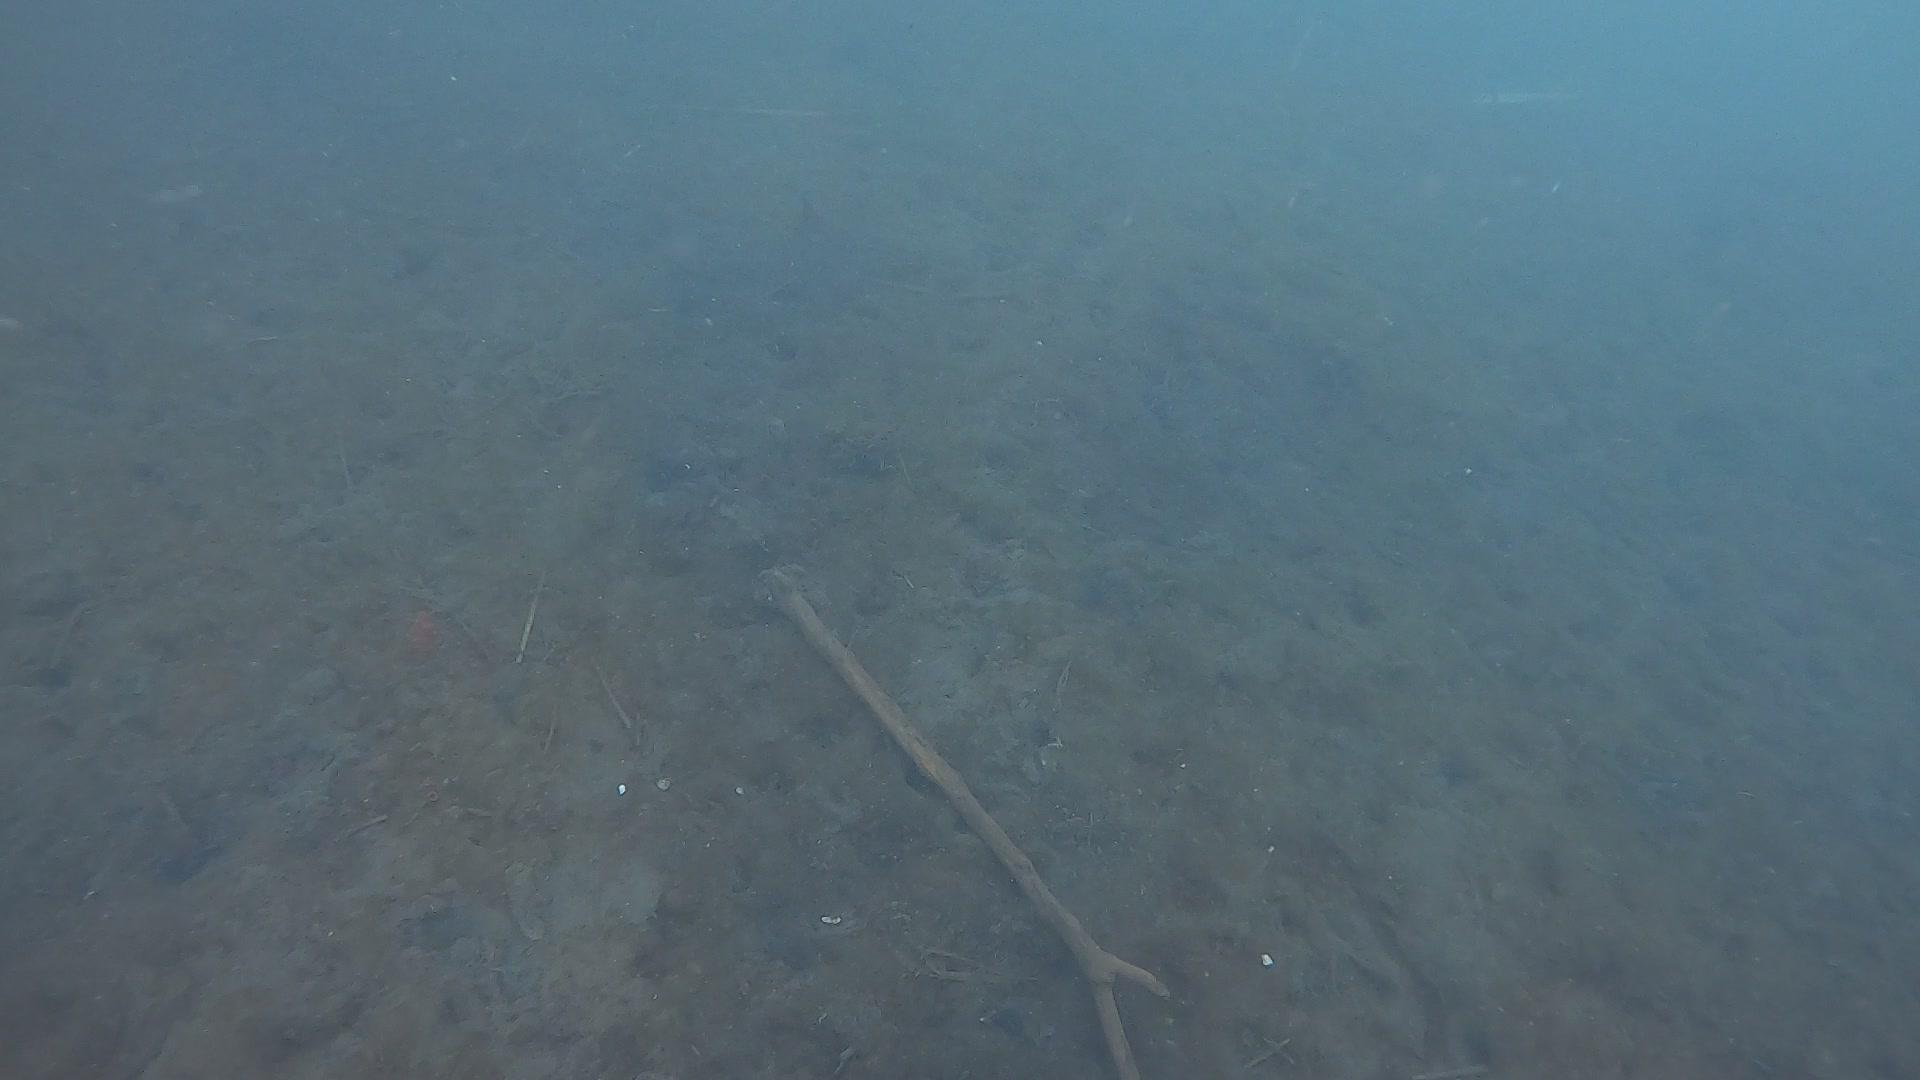wood: (760, 572, 1168, 1080)
